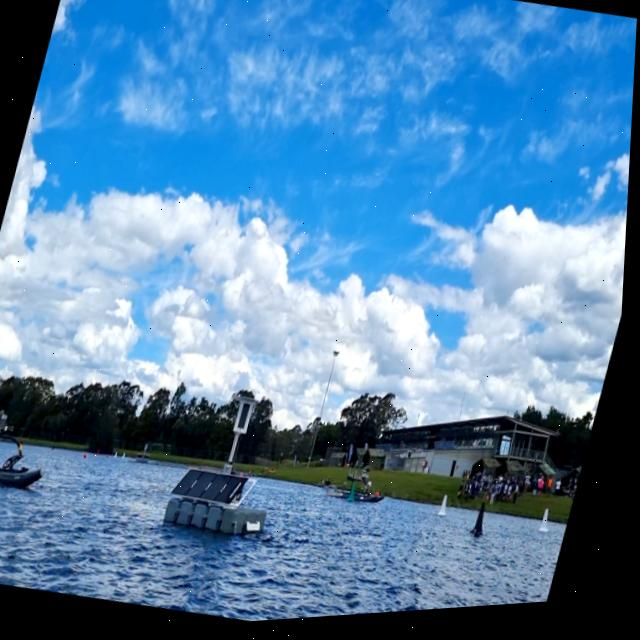led: (239, 403, 257, 436)
